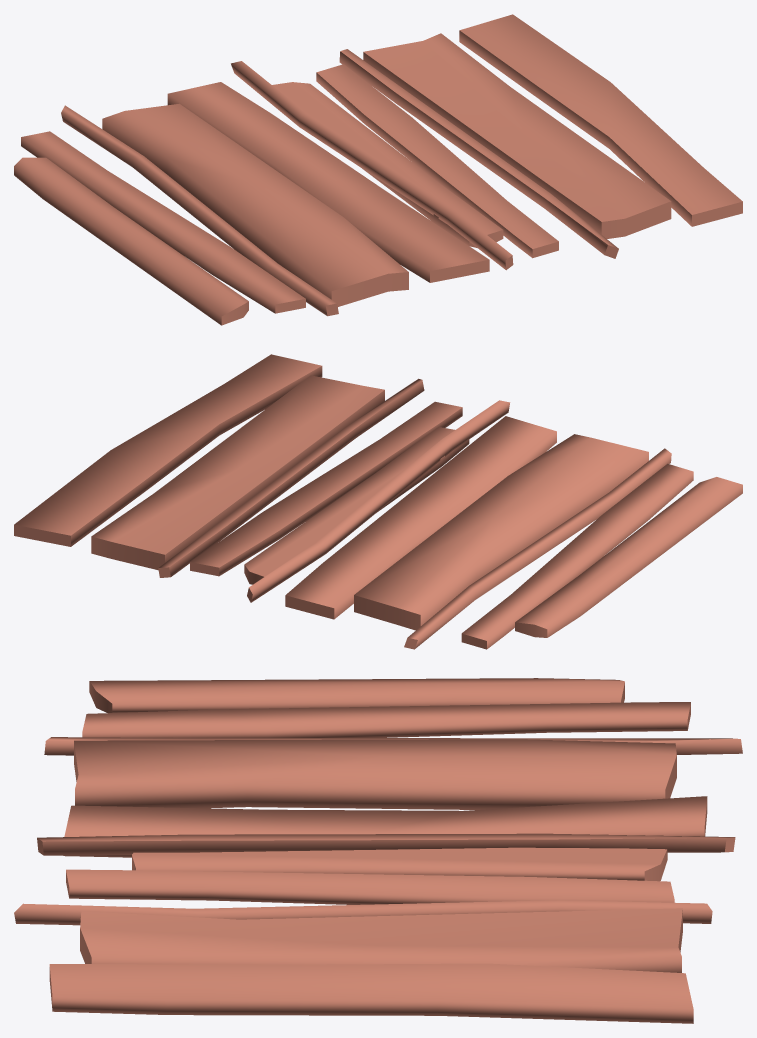
File: prop_wood_c.fbx
3 views of the same model, one above another, from view 1: azimuth 30°, elevation 25°; view 2: azimuth 150°, elevation 25°; view 3: azimuth 270°, elevation 25° (orthographic). The views are drawn at different scales.
Parts seen in each view (by area): view 1: Cube.034; view 2: Cube.034; view 3: Cube.034.
Boxes of the visible parts, bbox=[...] form: Cube.034: bbox=[14, 14, 742, 325]; Cube.034: bbox=[14, 354, 742, 649]; Cube.034: bbox=[14, 678, 742, 1023].
Size of the model in its own units: 3.57 by 0.2169 by 3.31.
